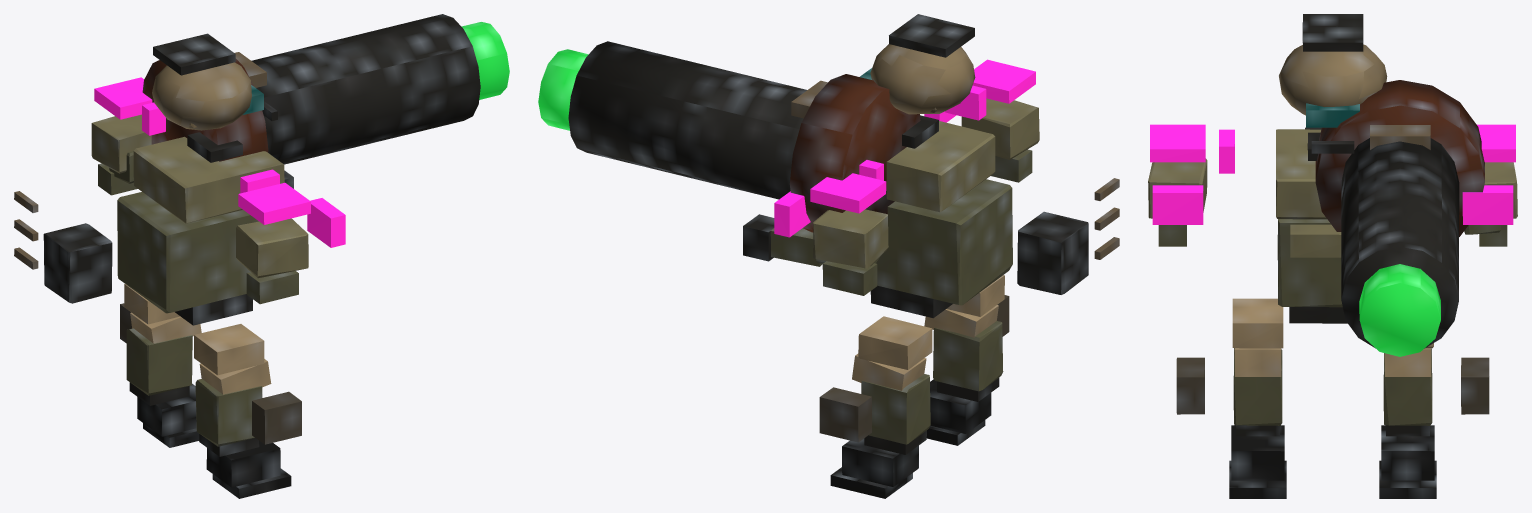
Rendered from rocket.glb.
The picture shows the model from 3 angles, left to right: view 1: azimuth 30°, elevation 25°; view 2: azimuth 150°, elevation 25°; view 3: azimuth 270°, elevation 25°; orthographic projection. The views are drawn at different scales.
Visible parts, largest first — view 1: Sandwar3D; view 2: Sandwar3D; view 3: Sandwar3D.
Part boxes in pixels (left/top/right/bottom): Sandwar3D: left=14, top=14, right=509, bottom=498; Sandwar3D: left=538, top=14, right=1119, bottom=498; Sandwar3D: left=1148, top=14, right=1517, bottom=498.
Size of the model in its own units: 1.2 by 0.9494 by 0.715.
12 materials, 11 textured.
